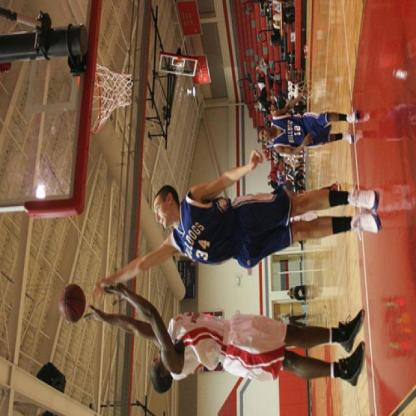basketball: (59, 283, 86, 324)
rim: (76, 69, 102, 138), (174, 62, 184, 76)
